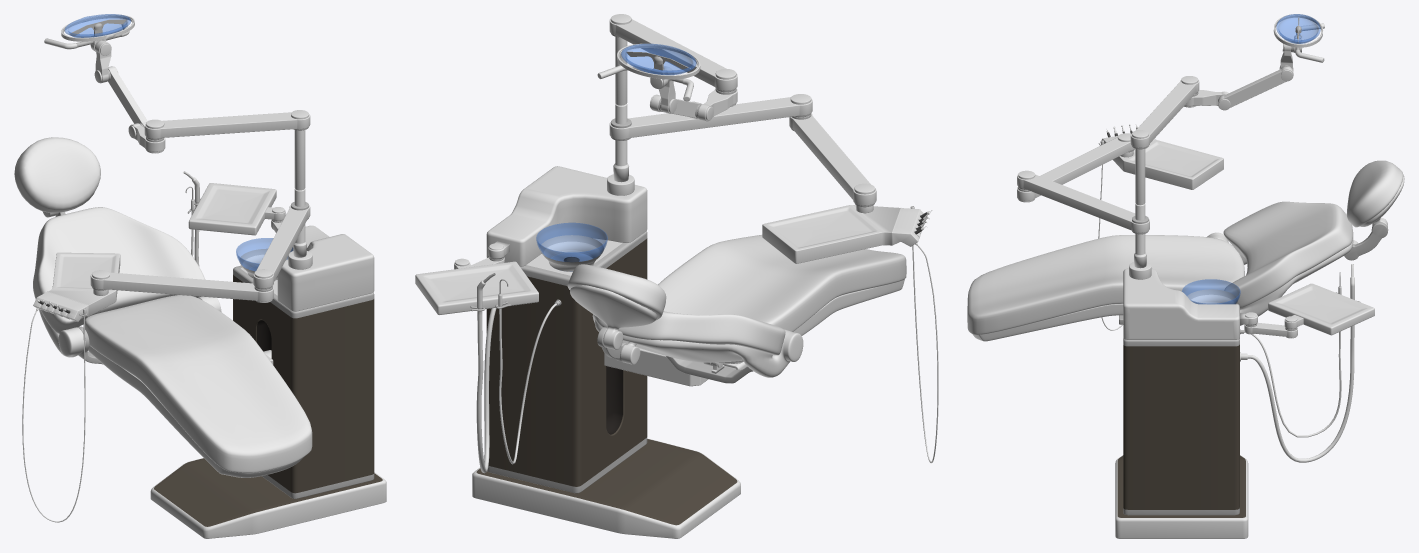
File: LitDocteur.fbx
3 renders of one model, left to right at view 1: azimuth 30°, elevation 25°; view 2: azimuth 150°, elevation 25°; view 3: azimuth 270°, elevation 25°, orthographic. The views are drawn at different scales.
Visible parts, largest first — view 1: DoctorBed, BottomSeet, BackRest, HeadRest, DentalTray, TopForeArm.003, BottomForeArm, TopUpperArm, BottomUpperArm, LightFitting, TopForeArm, DrillCord (+2 smaller); view 2: DoctorBed, BottomSeet, BackRest, DentalTray, HeadRest, TopForeArm.003, BottomUpperArm, LightFitting, BottomForeArm, TopUpperArm, SuckerLarge, Slider (+3 smaller); view 3: DoctorBed, BottomSeet, BackRest, TopForeArm.003, DentalTray, HeadRest, BottomUpperArm, BottomForeArm, TopUpperArm, LightFitting, SuckerLarge, TopForeArm (+3 smaller).
Part boxes in pixels (x1,y1,x2,y2): DoctorBed: (150, 130, 386, 538); BottomSeet: (85, 295, 312, 477); BackRest: (33, 207, 221, 357); HeadRest: (14, 137, 100, 217); DentalTray: (33, 252, 120, 321); TopForeArm.003: (187, 183, 285, 235); BottomForeArm: (90, 270, 273, 302); TopUpperArm: (144, 110, 310, 140); BottomUpperArm: (253, 202, 310, 289); LightFitting: (44, 14, 134, 51); TopForeArm: (108, 66, 147, 127); DrillCord: (22, 308, 86, 522); DoctorBed: (472, 37, 740, 538); BottomSeet: (604, 235, 906, 386); BackRest: (592, 311, 803, 377); DentalTray: (762, 205, 926, 263); HeadRest: (567, 264, 666, 349); TopForeArm.003: (415, 258, 538, 315); BottomUpperArm: (609, 94, 812, 140); LightFitting: (597, 43, 700, 101); BottomForeArm: (789, 113, 876, 207); TopUpperArm: (609, 14, 737, 92); SuckerLarge: (476, 273, 496, 473); Slider: (666, 356, 753, 383); DoctorBed: (1115, 148, 1257, 538); BottomSeet: (967, 235, 1244, 341); BackRest: (1207, 201, 1358, 325); TopForeArm.003: (1268, 283, 1374, 335); DentalTray: (1098, 133, 1223, 189); HeadRest: (1346, 160, 1404, 227); BottomUpperArm: (1017, 170, 1149, 234); BottomForeArm: (1017, 133, 1134, 202); TopUpperArm: (1130, 76, 1199, 149); LightFitting: (1273, 14, 1324, 62); SuckerLarge: (1240, 264, 1354, 462); TopForeArm: (1218, 66, 1293, 110).
Bounding box in the file's own units: 158 × 193 × 180.
